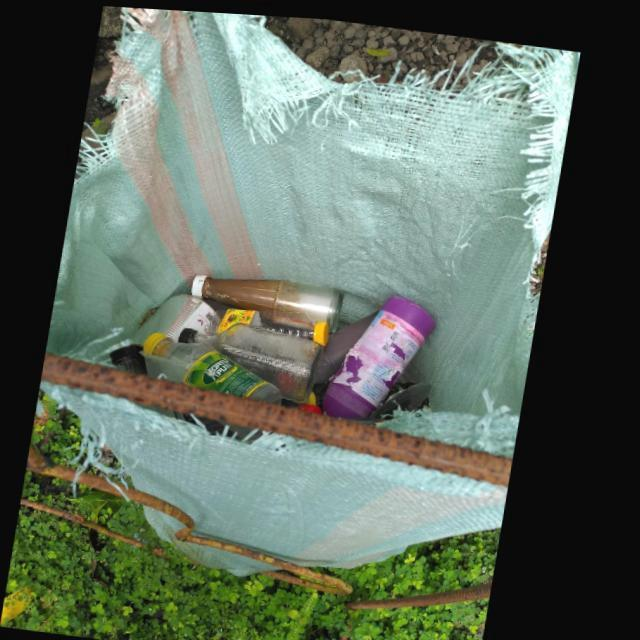aluminum: (139, 291, 220, 342)
glass_bottle: (183, 320, 329, 396), (196, 272, 349, 328)
plastic_bottle: (329, 290, 441, 415), (149, 329, 289, 399), (213, 305, 334, 342)
